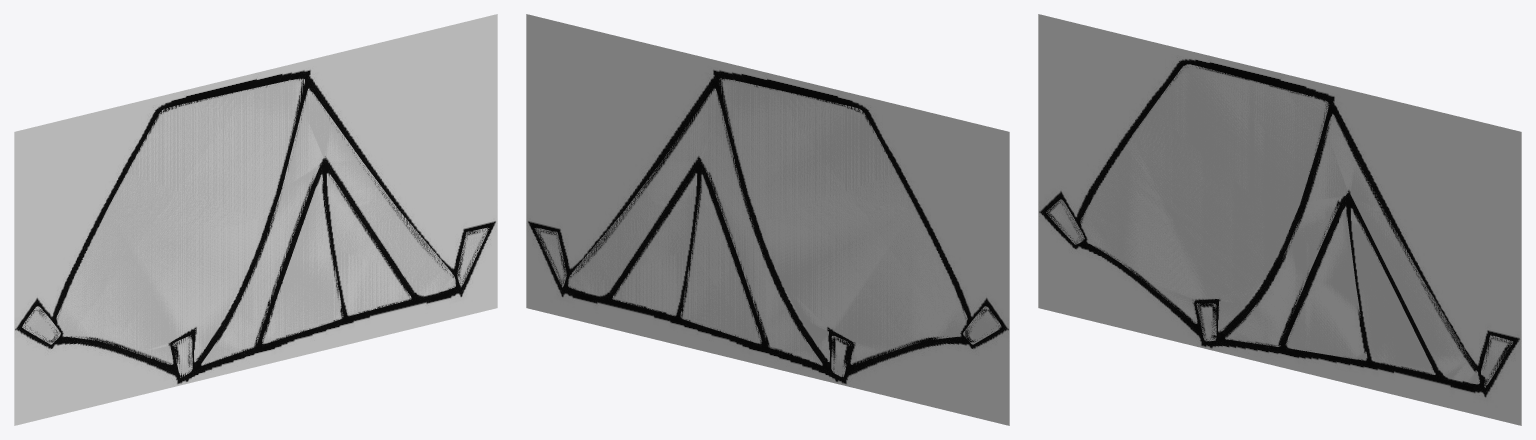
The model's file is Tent.fbx.
The picture shows the model from 3 angles, left to right: view 1: azimuth 30°, elevation 25°; view 2: azimuth 150°, elevation 25°; view 3: azimuth 330°, elevation 25°; orthographic projection.
Visible parts, largest first — view 1: Plane_1, Roof, Front, Door_1, Door_2, Stick_3, Stick_1, Stick_2; view 2: Plane_1, Roof, Front, Door_1, Door_2, Stick_3, Stick_1; view 3: Plane_1, Roof, Front, Door_2, Door_1, Stick_1, Stick_3, Stick_2.
Boxes of the visible parts, box(x1,y1,x2,y2) form: Plane_1: box(14, 14, 497, 425); Roof: box(56, 78, 304, 364); Front: box(201, 90, 455, 365); Door_1: box(262, 175, 343, 343); Door_2: box(327, 173, 411, 315); Stick_3: box(457, 227, 489, 286); Stick_1: box(22, 306, 60, 344); Stick_2: box(172, 335, 192, 377); Plane_1: box(526, 14, 1009, 425); Roof: box(719, 78, 967, 364); Front: box(568, 89, 822, 365); Door_1: box(680, 175, 761, 343); Door_2: box(612, 173, 696, 315); Stick_3: box(534, 228, 566, 287); Stick_1: box(963, 306, 1001, 344); Plane_1: box(1038, 14, 1521, 425); Roof: box(1080, 64, 1329, 332); Front: box(1225, 114, 1479, 384); Door_2: box(1351, 209, 1435, 374); Door_1: box(1285, 207, 1367, 360); Stick_1: box(1046, 199, 1084, 244); Stick_3: box(1481, 335, 1512, 387); Stick_2: box(1196, 303, 1216, 341).
Bounding box in the file's own units: 688 × 400 × 1.13e-13.
1 material, 1 textured.
